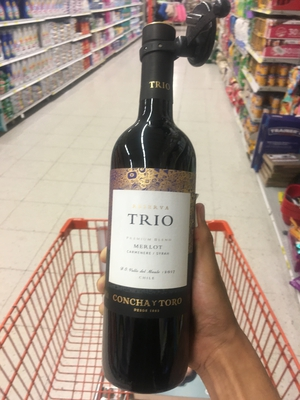trio merlot: (93, 23, 197, 398)
